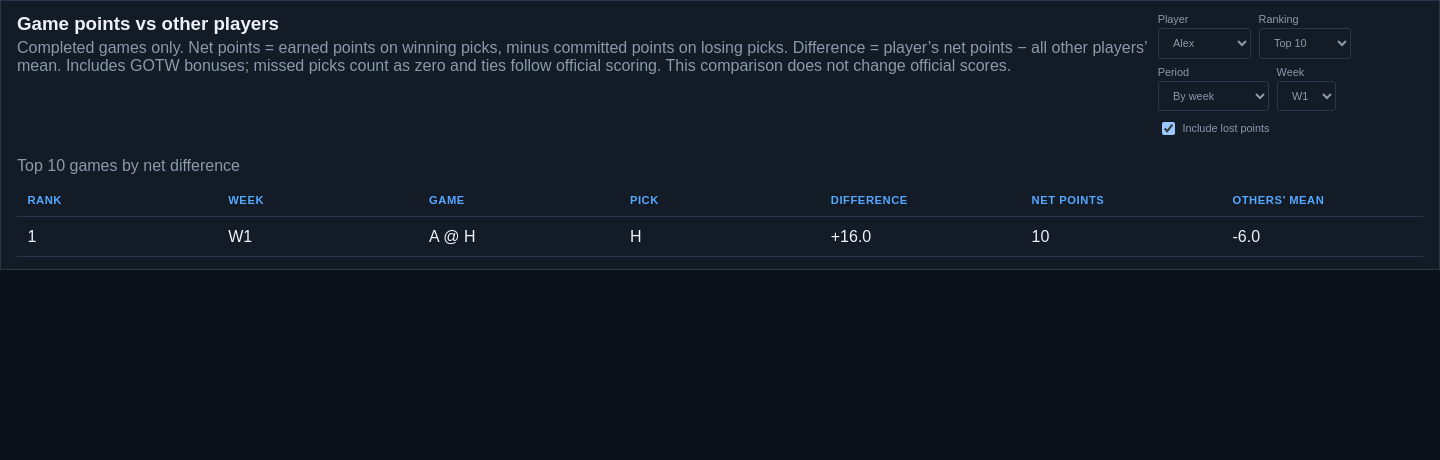
Test: defaults to net points and restores the existing ranking when unchecked
The image size is (1440, 460).
Check: the checkbox labelled "Include lost points" is checked, box left=1162, top=122, right=1175, bottom=134
Check: the column heading "Net points" is shown, box left=1021, top=184, right=1222, bottom=217
Select "Whole season" in the dropdown named "Game points period": [1214, 96] box left=1158, top=81, right=1269, bottom=111
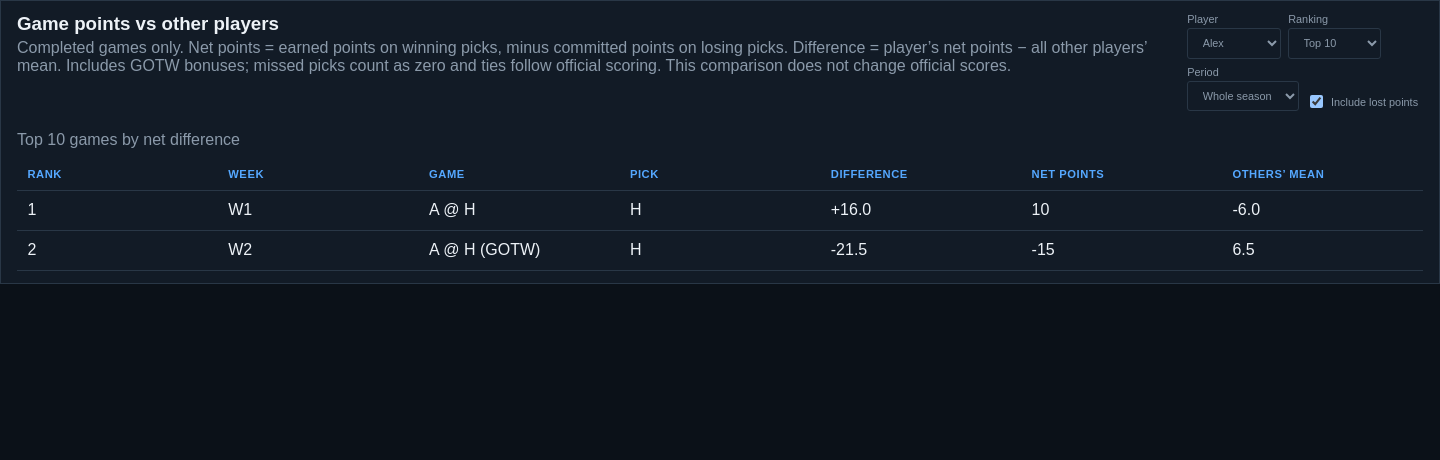
Select "All players" in the dropdown named "Game points player": [1234, 43] box left=1187, top=28, right=1281, bottom=59
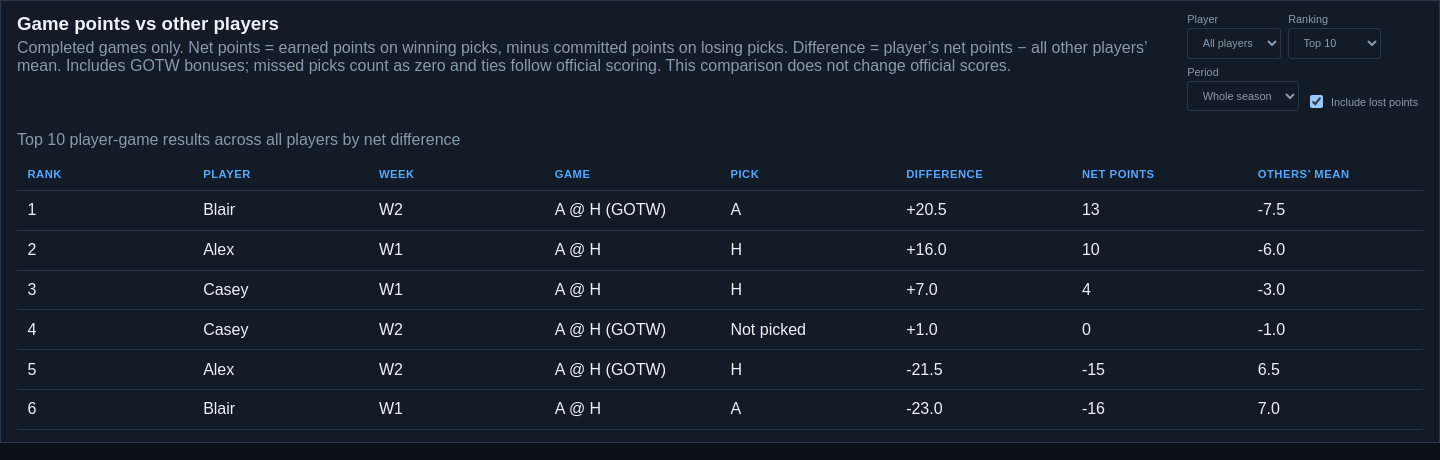
Select "Bottom 25" in the dropdown named "Game points ranking": [1335, 43] box left=1288, top=28, right=1381, bottom=59
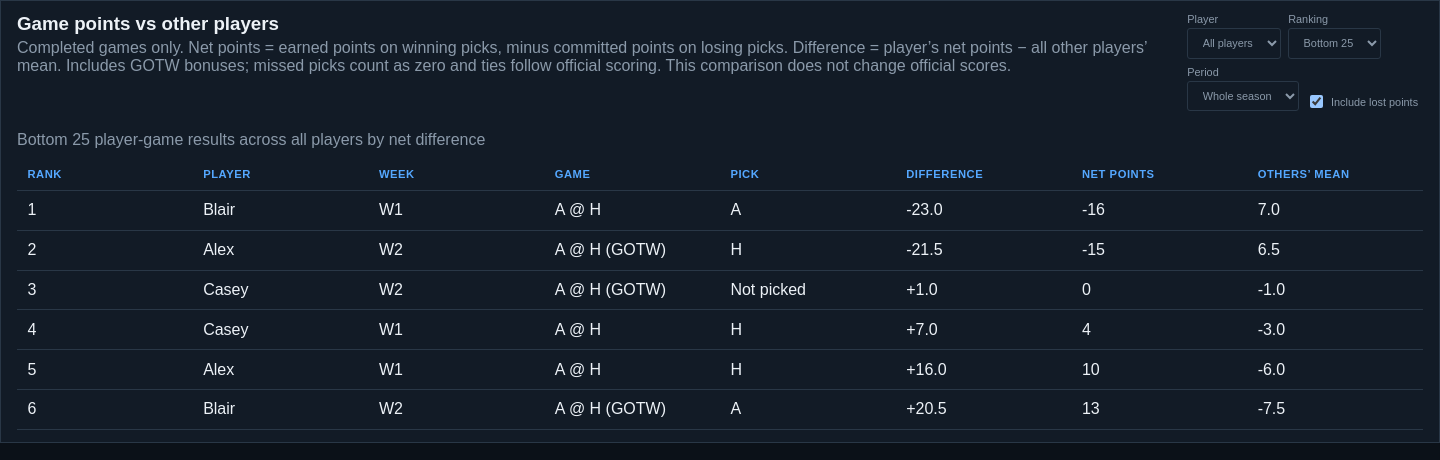
Check: the row "1 Blair W1 A @ H A -23.0 -16 7.0" is shown, box left=17, top=191, right=1423, bottom=230
Click the checkbox labelled "Include lost points": [1317, 102] box left=1310, top=95, right=1323, bottom=108
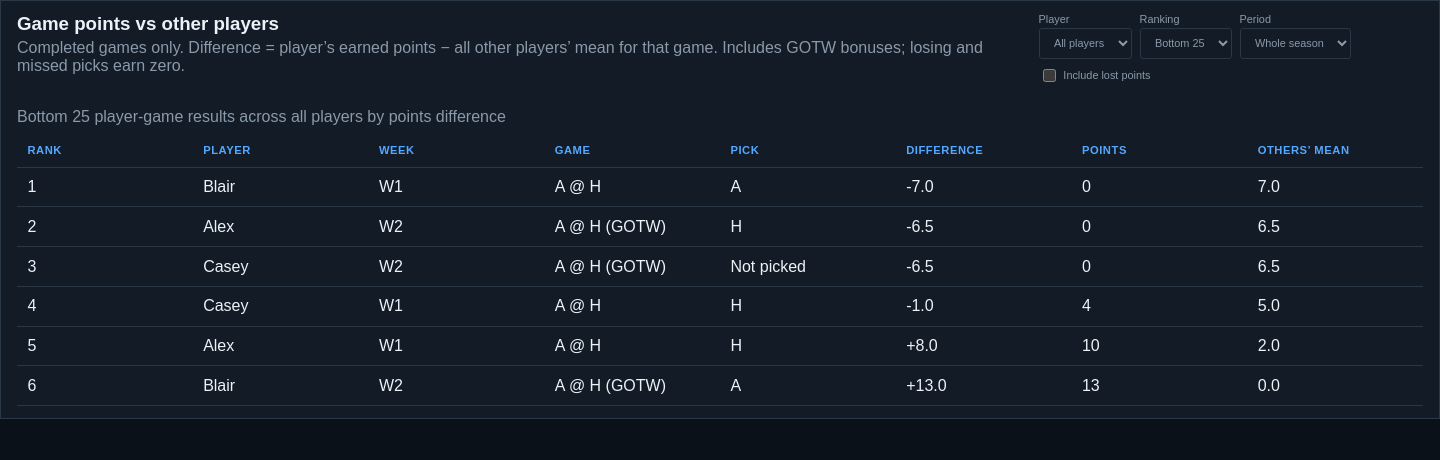
Check: the column heading "Points" is shown, box left=1072, top=134, right=1247, bottom=167
Check: the table shows "-7.0", box left=906, top=178, right=934, bottom=195
Click the checkbox labelled "Include lost points": [1049, 75] box left=1043, top=69, right=1056, bottom=82
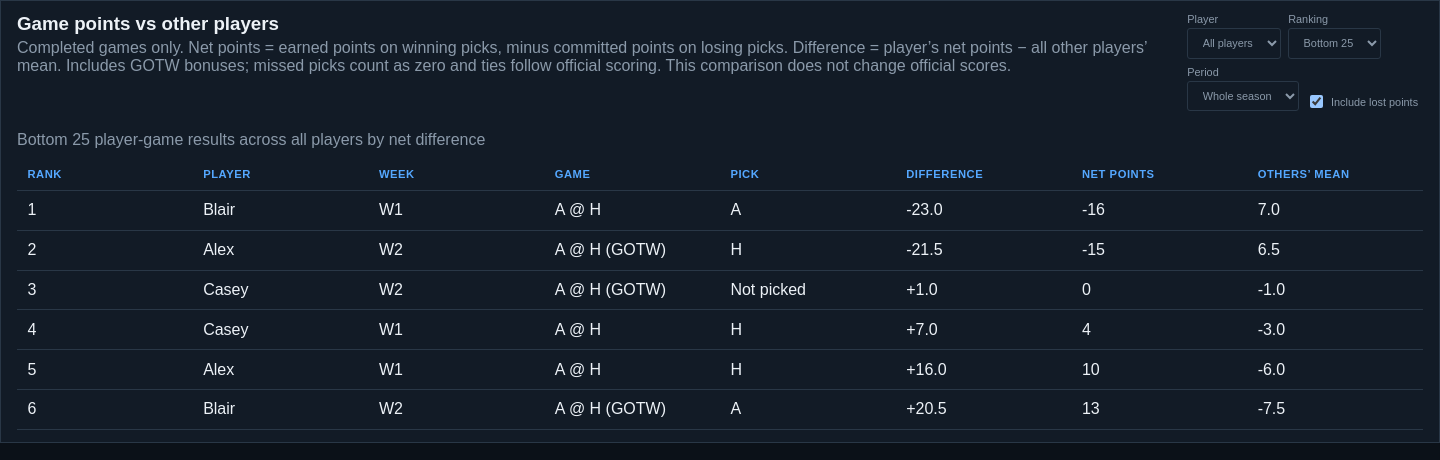
Check: the column heading "Net points" is shown, box left=1072, top=157, right=1247, bottom=191
